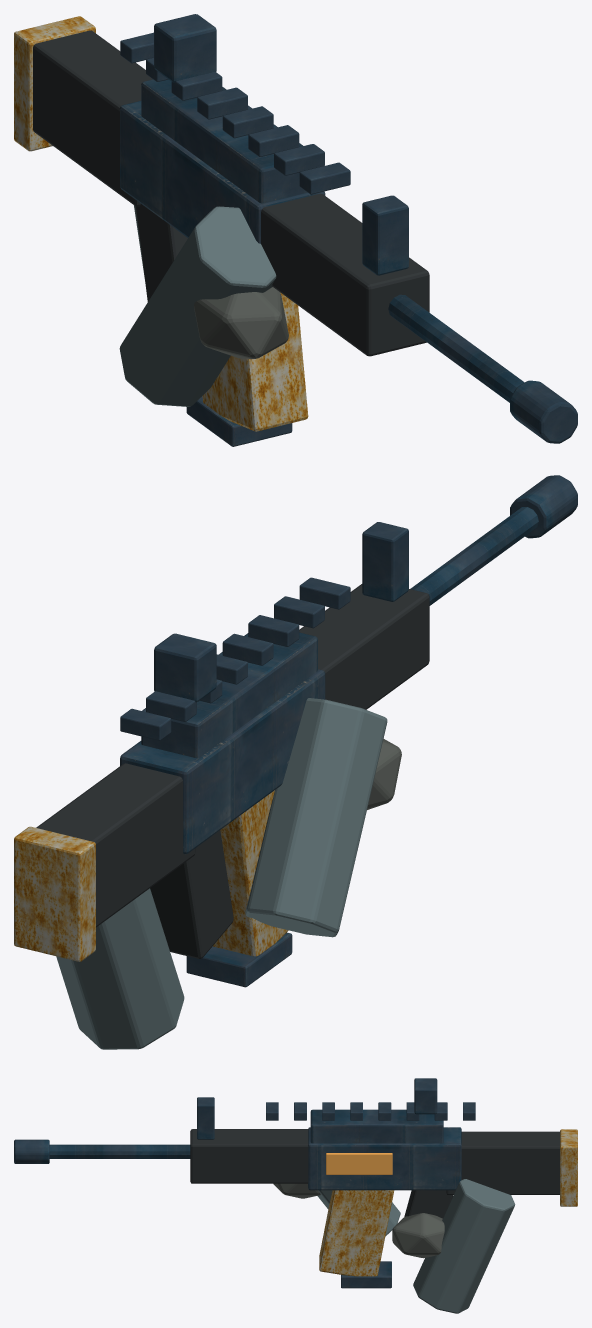
File: vb_rifle.glb
The picture shows the model from 3 angles, top to bottom: view 1: azimuth 30°, elevation 25°; view 2: azimuth 150°, elevation 25°; view 3: azimuth 270°, elevation 25°; orthographic projection. The views are drawn at different scales.
Parts seen in each view (by area): view 1: GEO-rifle_forearm_1, GEO-rifle_handguard, GEO-rifle_stock, GEO-rifle_receiver, GEO-rifle_upper, GEO-rifle_magazine, GEO-rifle_glove_1, GEO-rifle_barrel, GEO-rifle_rear_sight, GEO-rifle_buttpad, GEO-rifle_front_sight, GEO-rifle_muzzle (+9 smaller); view 2: GEO-rifle_forearm_1, GEO-rifle_forearm_0, GEO-rifle_stock, GEO-rifle_receiver, GEO-rifle_handguard, GEO-rifle_buttpad, GEO-rifle_upper, GEO-rifle_grip, GEO-rifle_magazine, GEO-rifle_rear_sight, GEO-rifle_barrel, GEO-rifle_front_sight (+10 smaller); view 3: GEO-rifle_forearm_0, GEO-rifle_handguard, GEO-rifle_receiver, GEO-rifle_stock, GEO-rifle_magazine, GEO-rifle_upper, GEO-rifle_barrel, GEO-rifle_glove_0, GEO-rifle_accent, GEO-rifle_buttpad, GEO-rifle_grip, GEO-rifle_muzzle (+5 smaller).
Part boxes in pixels (x1=…): GEO-rifle_forearm_1: x1=119, y1=206, x2=276, y2=406; GEO-rifle_handguard: x1=261, y1=193, x2=429, y2=356; GEO-rifle_stock: x1=33, y1=30, x2=152, y2=206; GEO-rifle_receiver: x1=120, y1=101, x2=325, y2=243; GEO-rifle_upper: x1=141, y1=79, x2=307, y2=203; GEO-rifle_magazine: x1=202, y1=292, x2=308, y2=431; GEO-rifle_glove_1: x1=194, y1=287, x2=288, y2=358; GEO-rifle_barrel: x1=388, y1=294, x2=524, y2=402; GEO-rifle_rear_sight: x1=154, y1=14, x2=216, y2=82; GEO-rifle_buttpad: x1=14, y1=16, x2=95, y2=151; GEO-rifle_front_sight: x1=362, y1=195, x2=408, y2=275; GEO-rifle_muzzle: x1=510, y1=380, x2=577, y2=443; GEO-rifle_forearm_1: x1=245, y1=698, x2=387, y2=937; GEO-rifle_forearm_0: x1=56, y1=888, x2=184, y2=1049; GEO-rifle_stock: x1=36, y1=763, x2=195, y2=927; GEO-rifle_receiver: x1=120, y1=669, x2=325, y2=854; GEO-rifle_handguard: x1=299, y1=584, x2=429, y2=709; GEO-rifle_buttpad: x1=14, y1=826, x2=95, y2=961; GEO-rifle_upper: x1=141, y1=632, x2=317, y2=757; GEO-rifle_grip: x1=150, y1=830, x2=233, y2=958; GEO-rifle_magazine: x1=213, y1=790, x2=288, y2=956; GEO-rifle_rear_sight: x1=154, y1=633, x2=216, y2=702; GEO-rifle_barrel: x1=410, y1=507, x2=538, y2=605; GEO-rifle_front_sight: x1=362, y1=522, x2=408, y2=601; GEO-rifle_forearm_0: x1=413, y1=1179, x2=515, y2=1313; GEO-rifle_handguard: x1=190, y1=1129, x2=308, y2=1183; GEO-rifle_receiver: x1=308, y1=1127, x2=461, y2=1190; GEO-rifle_stock: x1=446, y1=1131, x2=559, y2=1194; GEO-rifle_magazine: x1=319, y1=1190, x2=394, y2=1276; GEO-rifle_upper: x1=310, y1=1109, x2=443, y2=1143; GEO-rifle_barrel: x1=49, y1=1144, x2=190, y2=1158; GEO-rifle_glove_0: x1=392, y1=1213, x2=444, y2=1258; GEO-rifle_accent: x1=326, y1=1153, x2=392, y2=1174; GEO-rifle_buttpad: x1=560, y1=1129, x2=577, y2=1206; GEO-rifle_grip: x1=404, y1=1190, x2=452, y2=1218; GEO-rifle_muzzle: x1=14, y1=1139, x2=49, y2=1163.
Size of the model in its own units: 0.2513 by 0.4593 by 1.1.
Materials: 7 (3 with a texture image).
